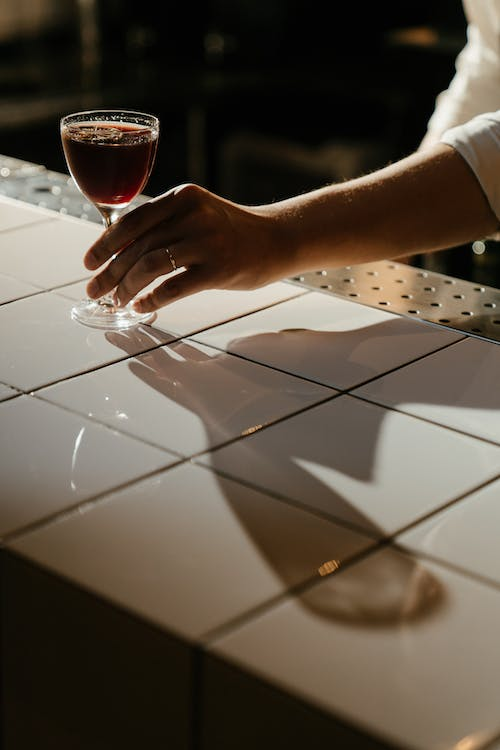alcohol: (59, 108, 161, 333)
